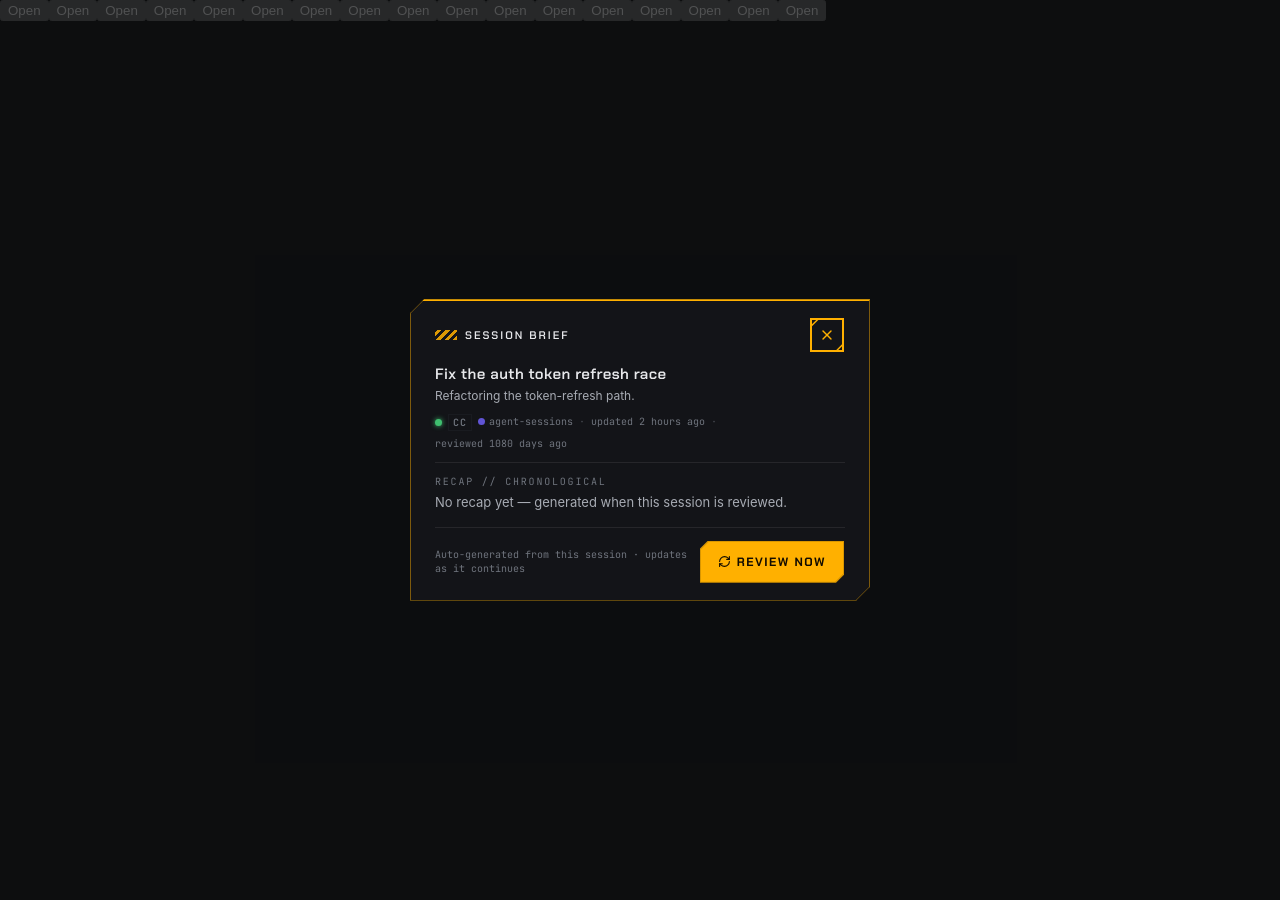
'Review now' refreshes the recap in place (#481)
expect the text "No recap yet — generated when this session is reviewed." is shown: met, box [435,492,845,511]
Click the button "Review now" at (772, 562), box [699,540,845,584]
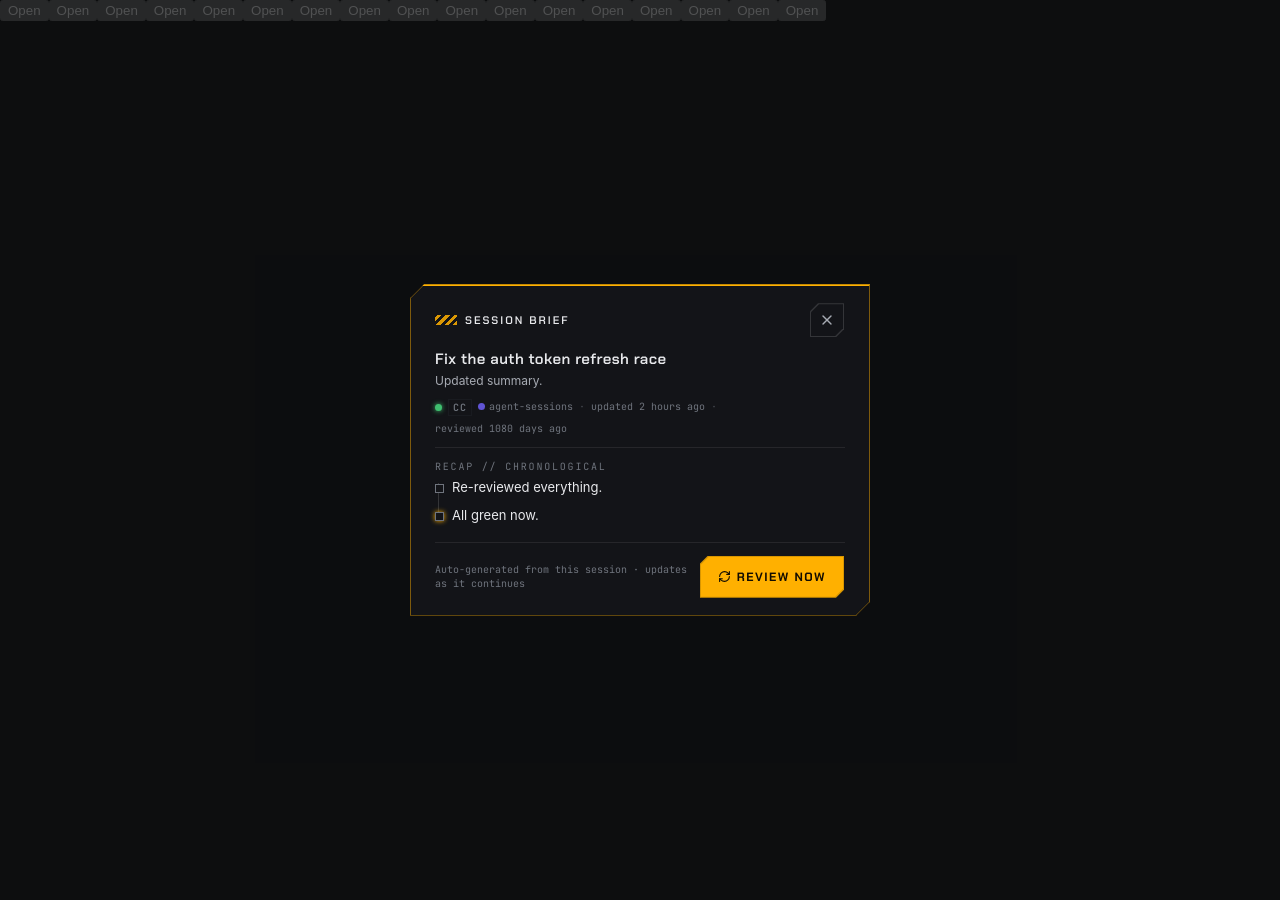
expect the list item "All green now." is shown: met, box [452,507,539,523]
expect the text "Updated summary." is shown: met, box [435,373,542,388]
